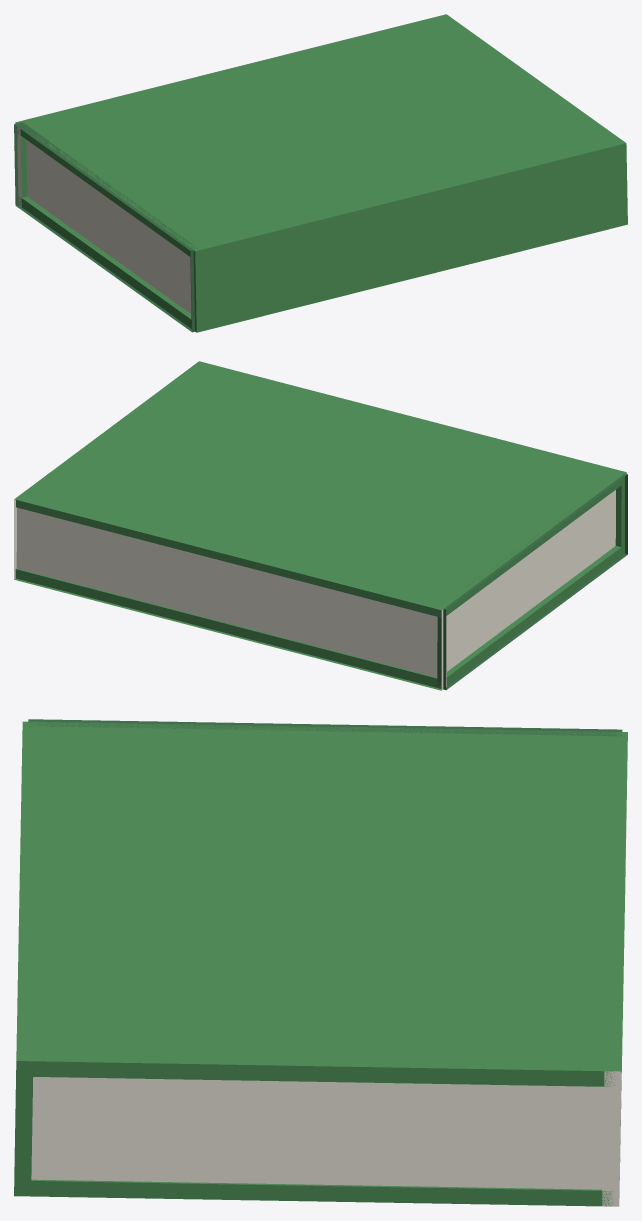
File: libro.fbx
3 views of the same model, one above another, from view 1: azimuth 30°, elevation 25°; view 2: azimuth 150°, elevation 25°; view 3: azimuth 270°, elevation 25° (orthographic). The views are drawn at different scales.
Parts seen in each view (by area): view 1: Libro_Verde; view 2: Libro_Verde; view 3: Libro_Verde.
Part boxes in pixels (box(x1,y1,x2,y2)): Libro_Verde: box(14, 14, 627, 332); Libro_Verde: box(14, 361, 627, 690); Libro_Verde: box(14, 719, 627, 1206).
Bounding box in the file's own units: 0.2922 × 0.0584 × 0.215.
